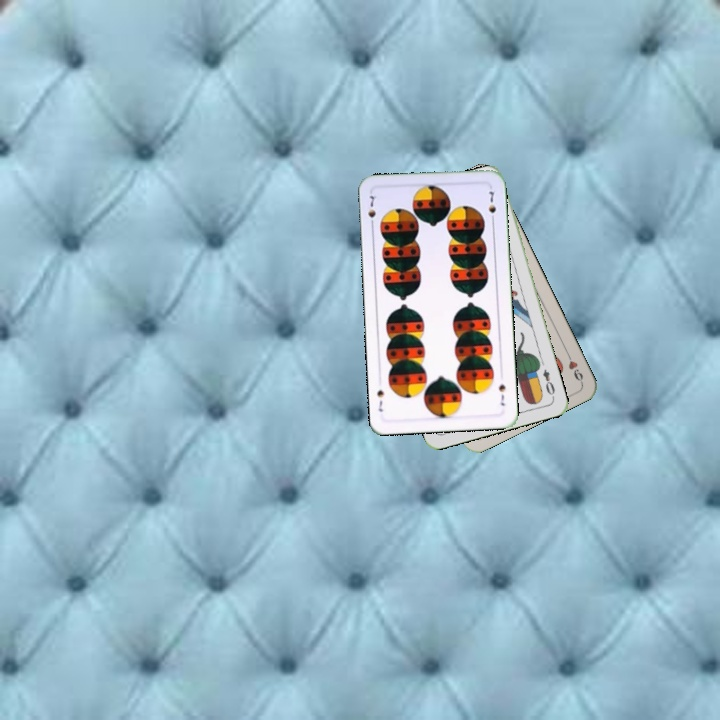EO: (539, 365, 557, 398)
H9: (562, 347, 586, 386)
S7: (364, 191, 380, 230), (495, 380, 508, 408)
